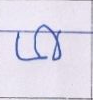i_matra: (40, 24, 62, 60)
